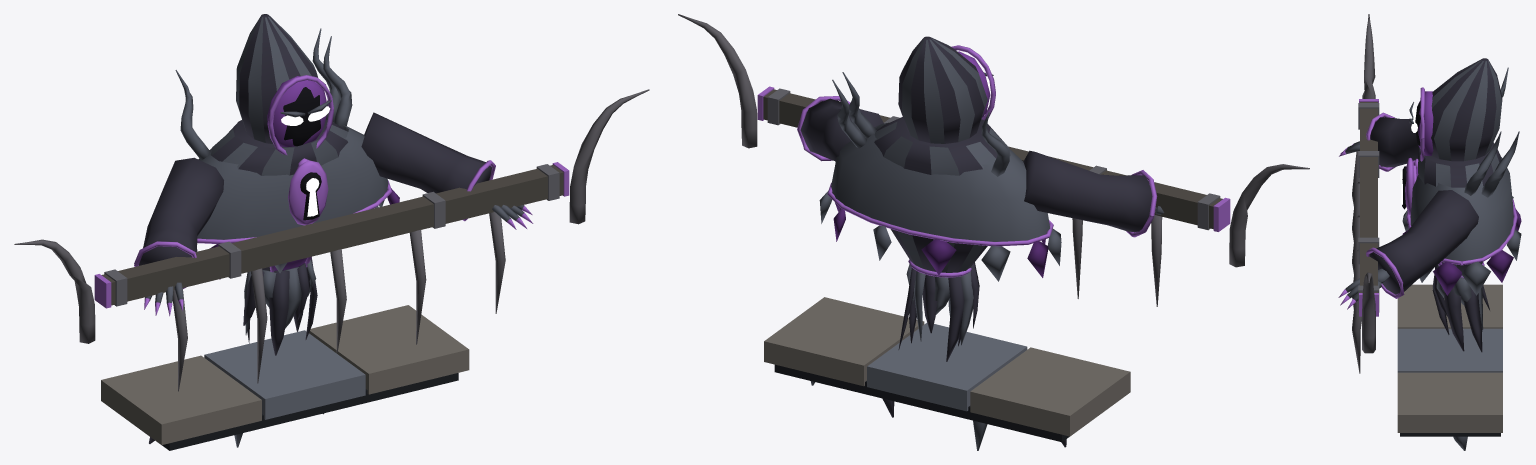
Rendered from lurker-dark-threshold.glb.
3 renders of one model, left to right at view 1: azimuth 30°, elevation 25°; view 2: azimuth 150°, elevation 25°; view 3: azimuth 270°, elevation 25°, orthographic. The views are drawn at different scales.
Visible parts, largest first — view 1: lurker_dark_threshold, turn_head, sway_hem_front, sway_wisps, sway_smoke_l, sway_smoke_r; view 2: lurker_dark_threshold, turn_head, sway_hem_back, sway_wisps, sway_smoke_l, sway_smoke_r, sway_hem_r; view 3: lurker_dark_threshold, turn_head, sway_wisps, sway_hem_l, sway_smoke_l, sway_hem_back, sway_smoke_r, sway_hem_front.
Boxes of the visible parts, bbox=[...] form: lurker_dark_threshold: bbox=[94, 112, 569, 450]; turn_head: bbox=[236, 14, 333, 155]; sway_hem_front: bbox=[262, 260, 316, 355]; sway_wisps: bbox=[175, 28, 352, 160]; sway_smoke_l: bbox=[569, 89, 649, 224]; sway_smoke_r: bbox=[14, 239, 95, 343]; lurker_dark_threshold: bbox=[757, 86, 1230, 442]; turn_head: bbox=[898, 36, 995, 143]; sway_hem_back: bbox=[898, 268, 964, 361]; sway_wisps: bbox=[832, 72, 1009, 176]; sway_smoke_l: bbox=[678, 14, 757, 148]; sway_smoke_r: bbox=[1229, 164, 1309, 267]; sway_hem_r: bbox=[960, 262, 979, 345]; lurker_dark_threshold: bbox=[1338, 99, 1521, 436]; turn_head: bbox=[1409, 58, 1502, 161]; sway_wisps: bbox=[1464, 67, 1519, 197]; sway_hem_l: bbox=[1444, 275, 1471, 351]; sway_smoke_l: bbox=[1362, 272, 1375, 353]; sway_hem_back: bbox=[1464, 285, 1489, 352]; sway_smoke_r: bbox=[1362, 14, 1375, 98]; sway_hem_front: bbox=[1432, 264, 1449, 334].
Bounding box in the file's own units: 1.76 × 1.09 × 0.5055.
